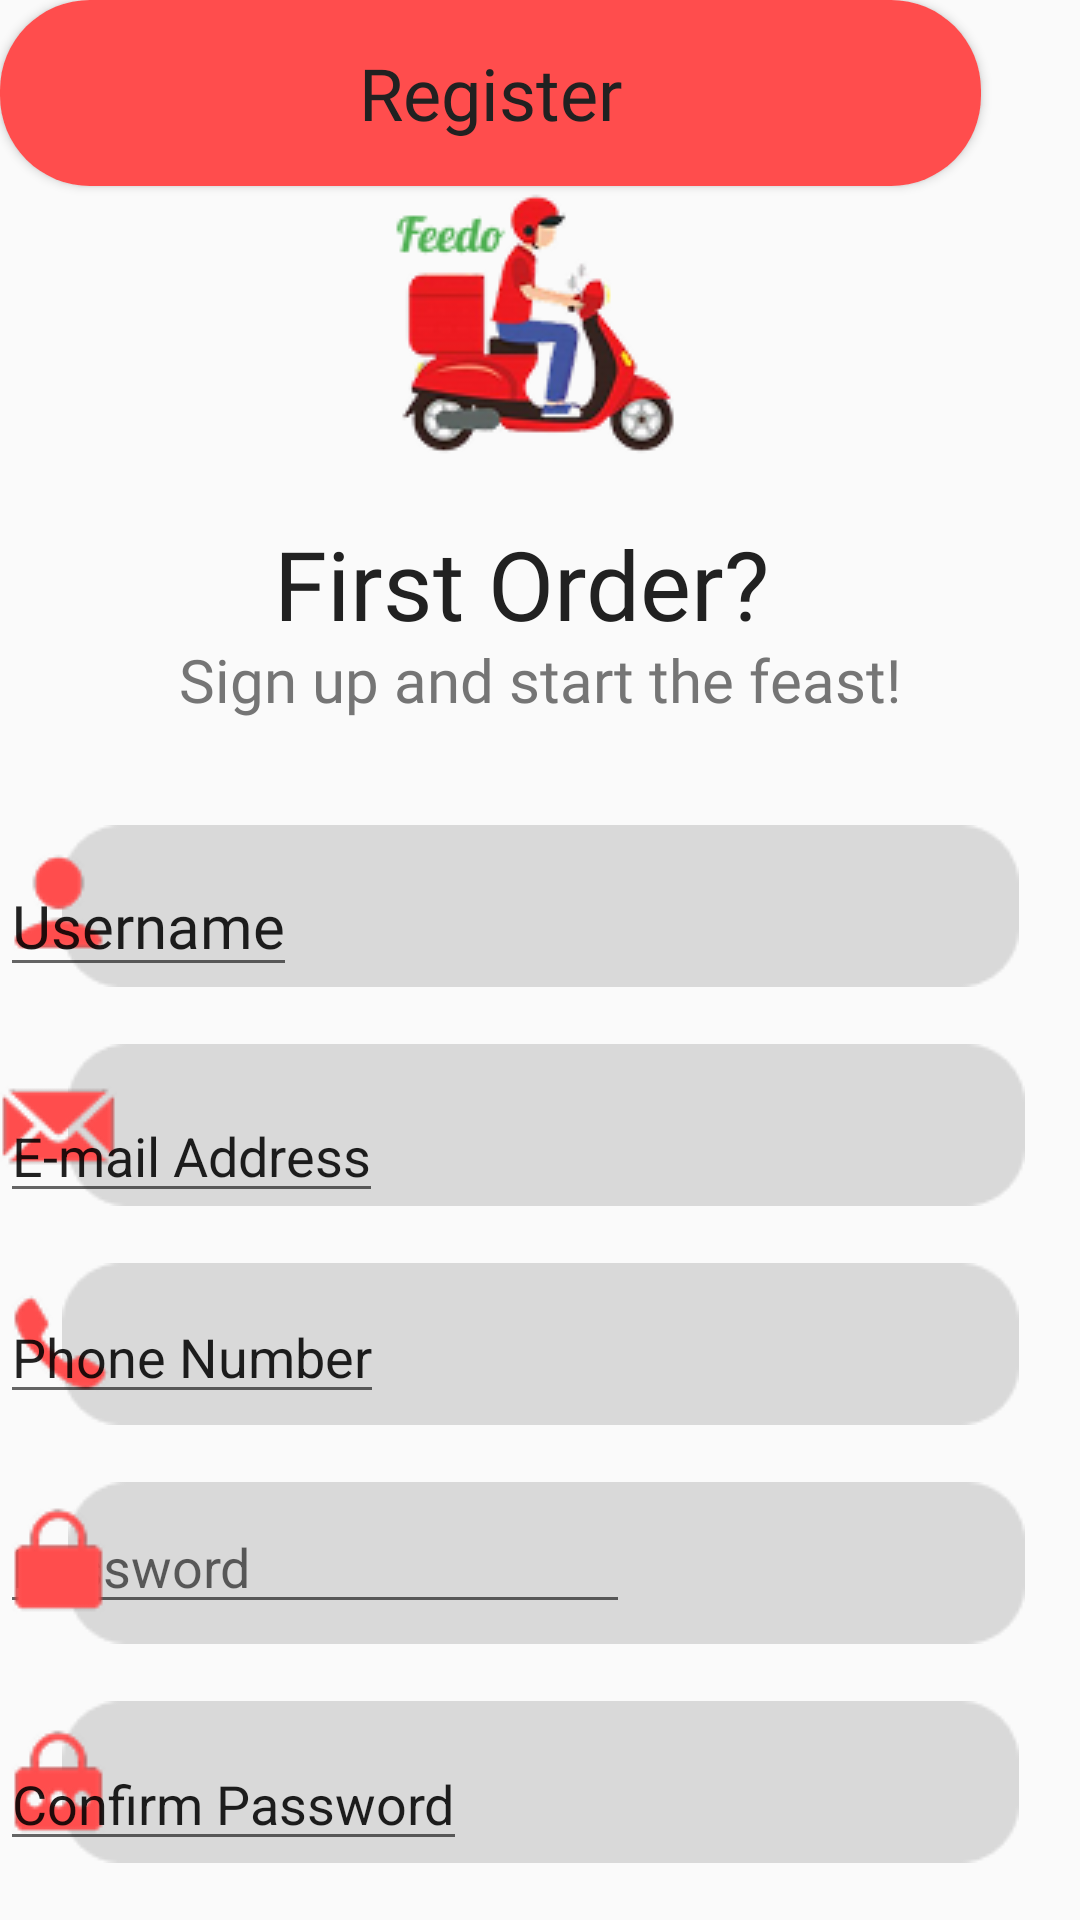

Named icons in this screenshot (1080px×1920px) and their centers, (x=x, y=y):
lock: (x=58, y=1561)
